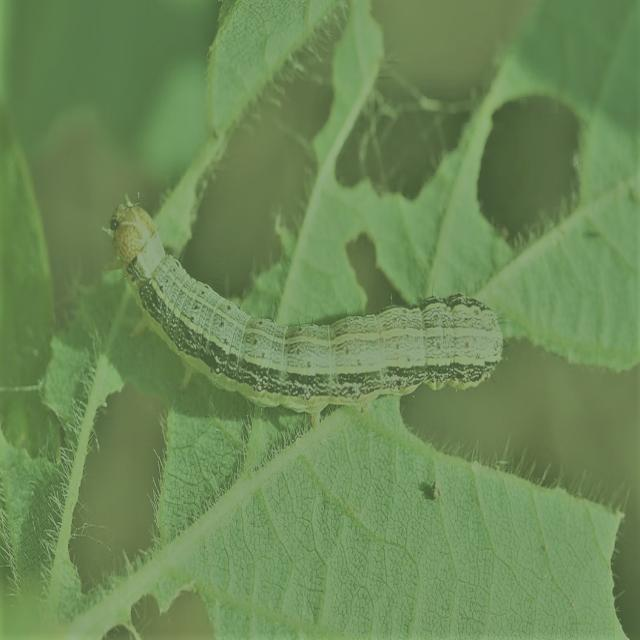armyworm: (101, 192, 504, 420)
